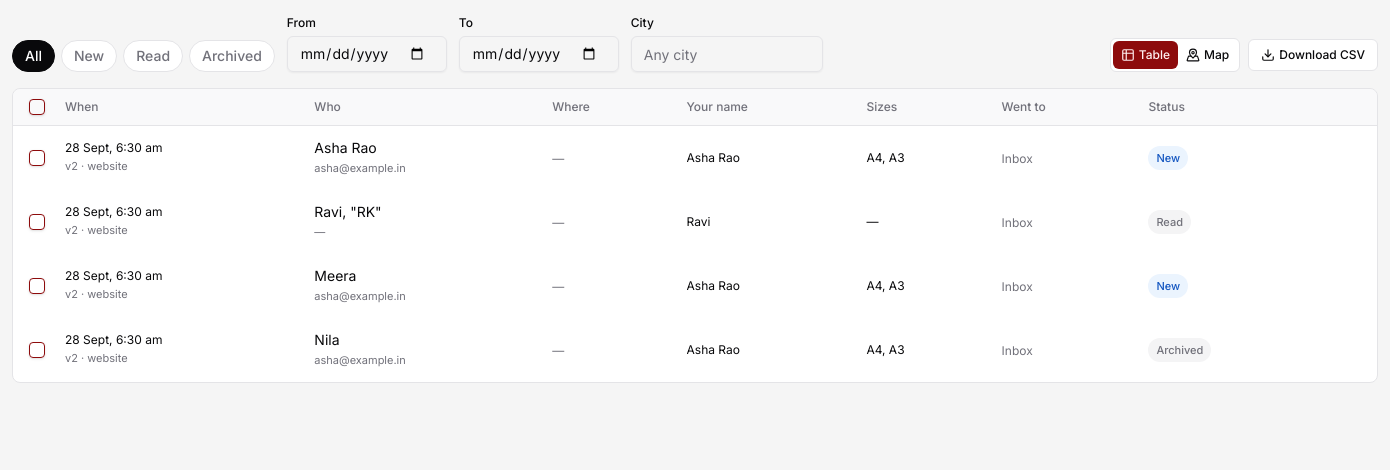
marking a selection › is shut without content.edit, naming the power; the download is not
Expected: the text "Meera" is shown, [314,266,356,284]
Step 1. Click the checkbox named "Select row" in the row of "Meera" → coordinates (37, 286), box [29,278,45,294]
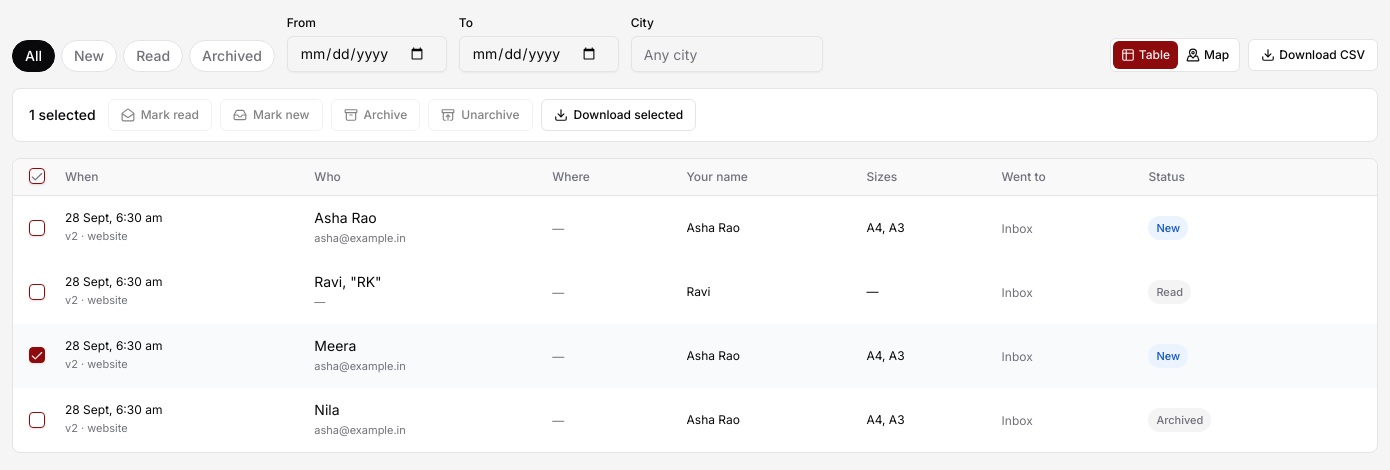
Expected: the button with test id "bulk-read" is disabled, [108,99,212,131]
Expected: the button with test id "submissions-csv-selected" is enabled, [540,99,696,131]
